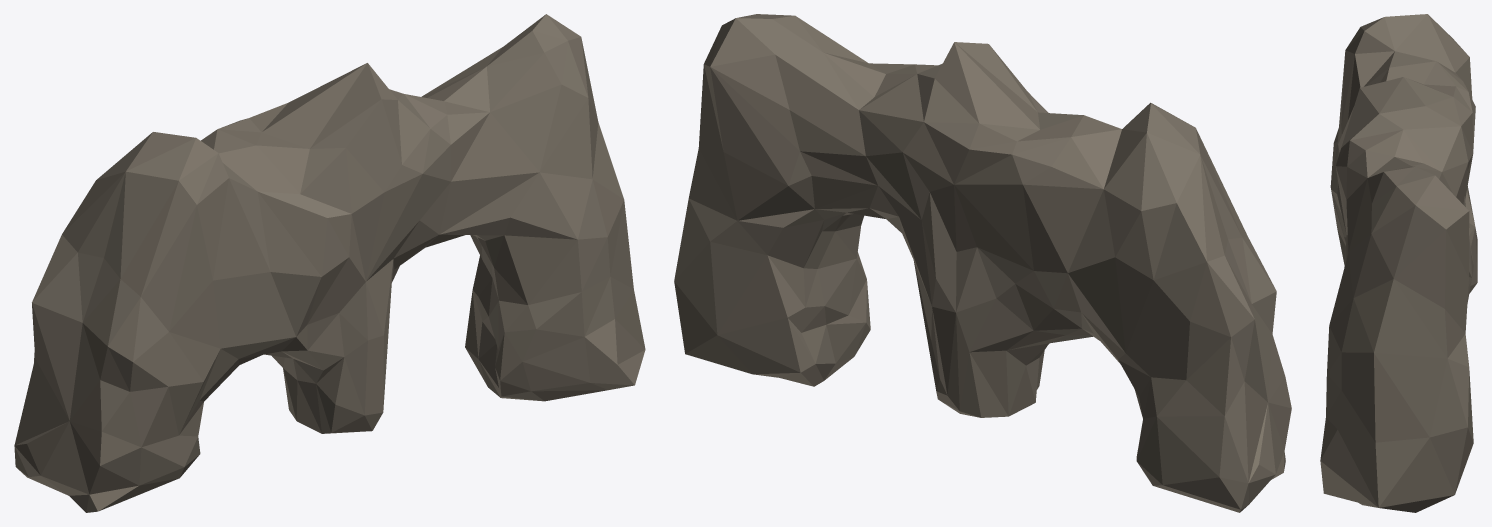
The model's file is RockArc_01.glb.
3 renders of one model, left to right at view 1: azimuth 30°, elevation 25°; view 2: azimuth 150°, elevation 25°; view 3: azimuth 270°, elevation 25°, orthographic. The views are drawn at different scales.
Visible parts, largest first — view 1: RockArc01; view 2: RockArc01; view 3: RockArc01.
Boxes of the visible parts, x1,y1,x2,y2 form: RockArc01: (14,14,645,512); RockArc01: (674,14,1291,512); RockArc01: (1320,14,1477,512).
Size of what is drawn, in the model's own units: 12.7 by 7.67 by 3.23.
Materials: 1 (1 with a texture image).
